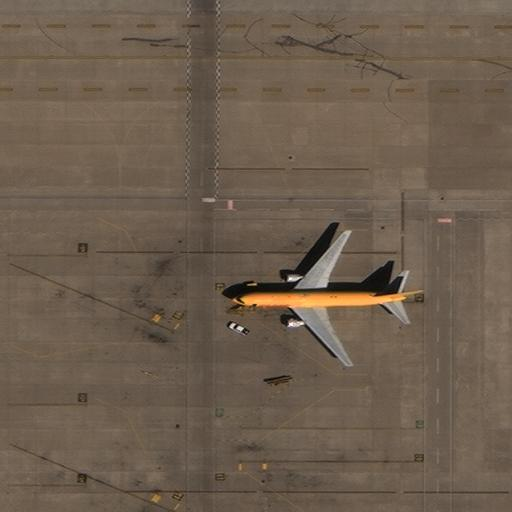Large Civil Transport: (231, 230, 424, 366)
